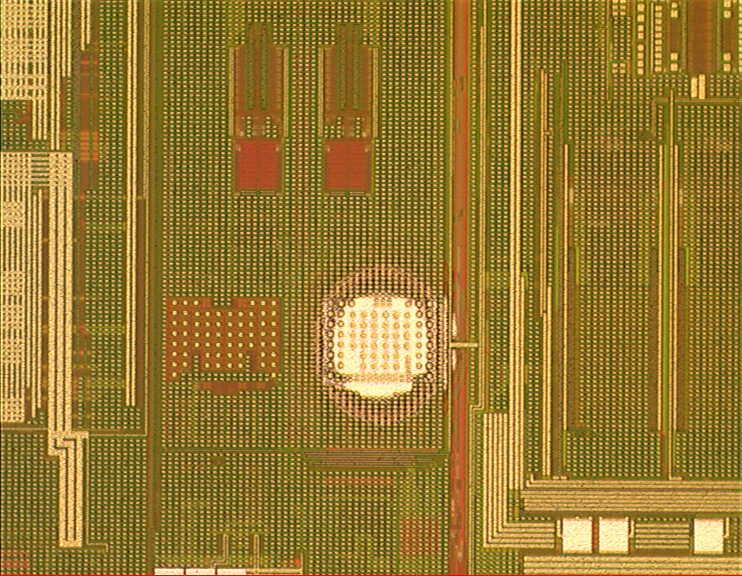BLOCK ETCH: (307, 259, 462, 431)
